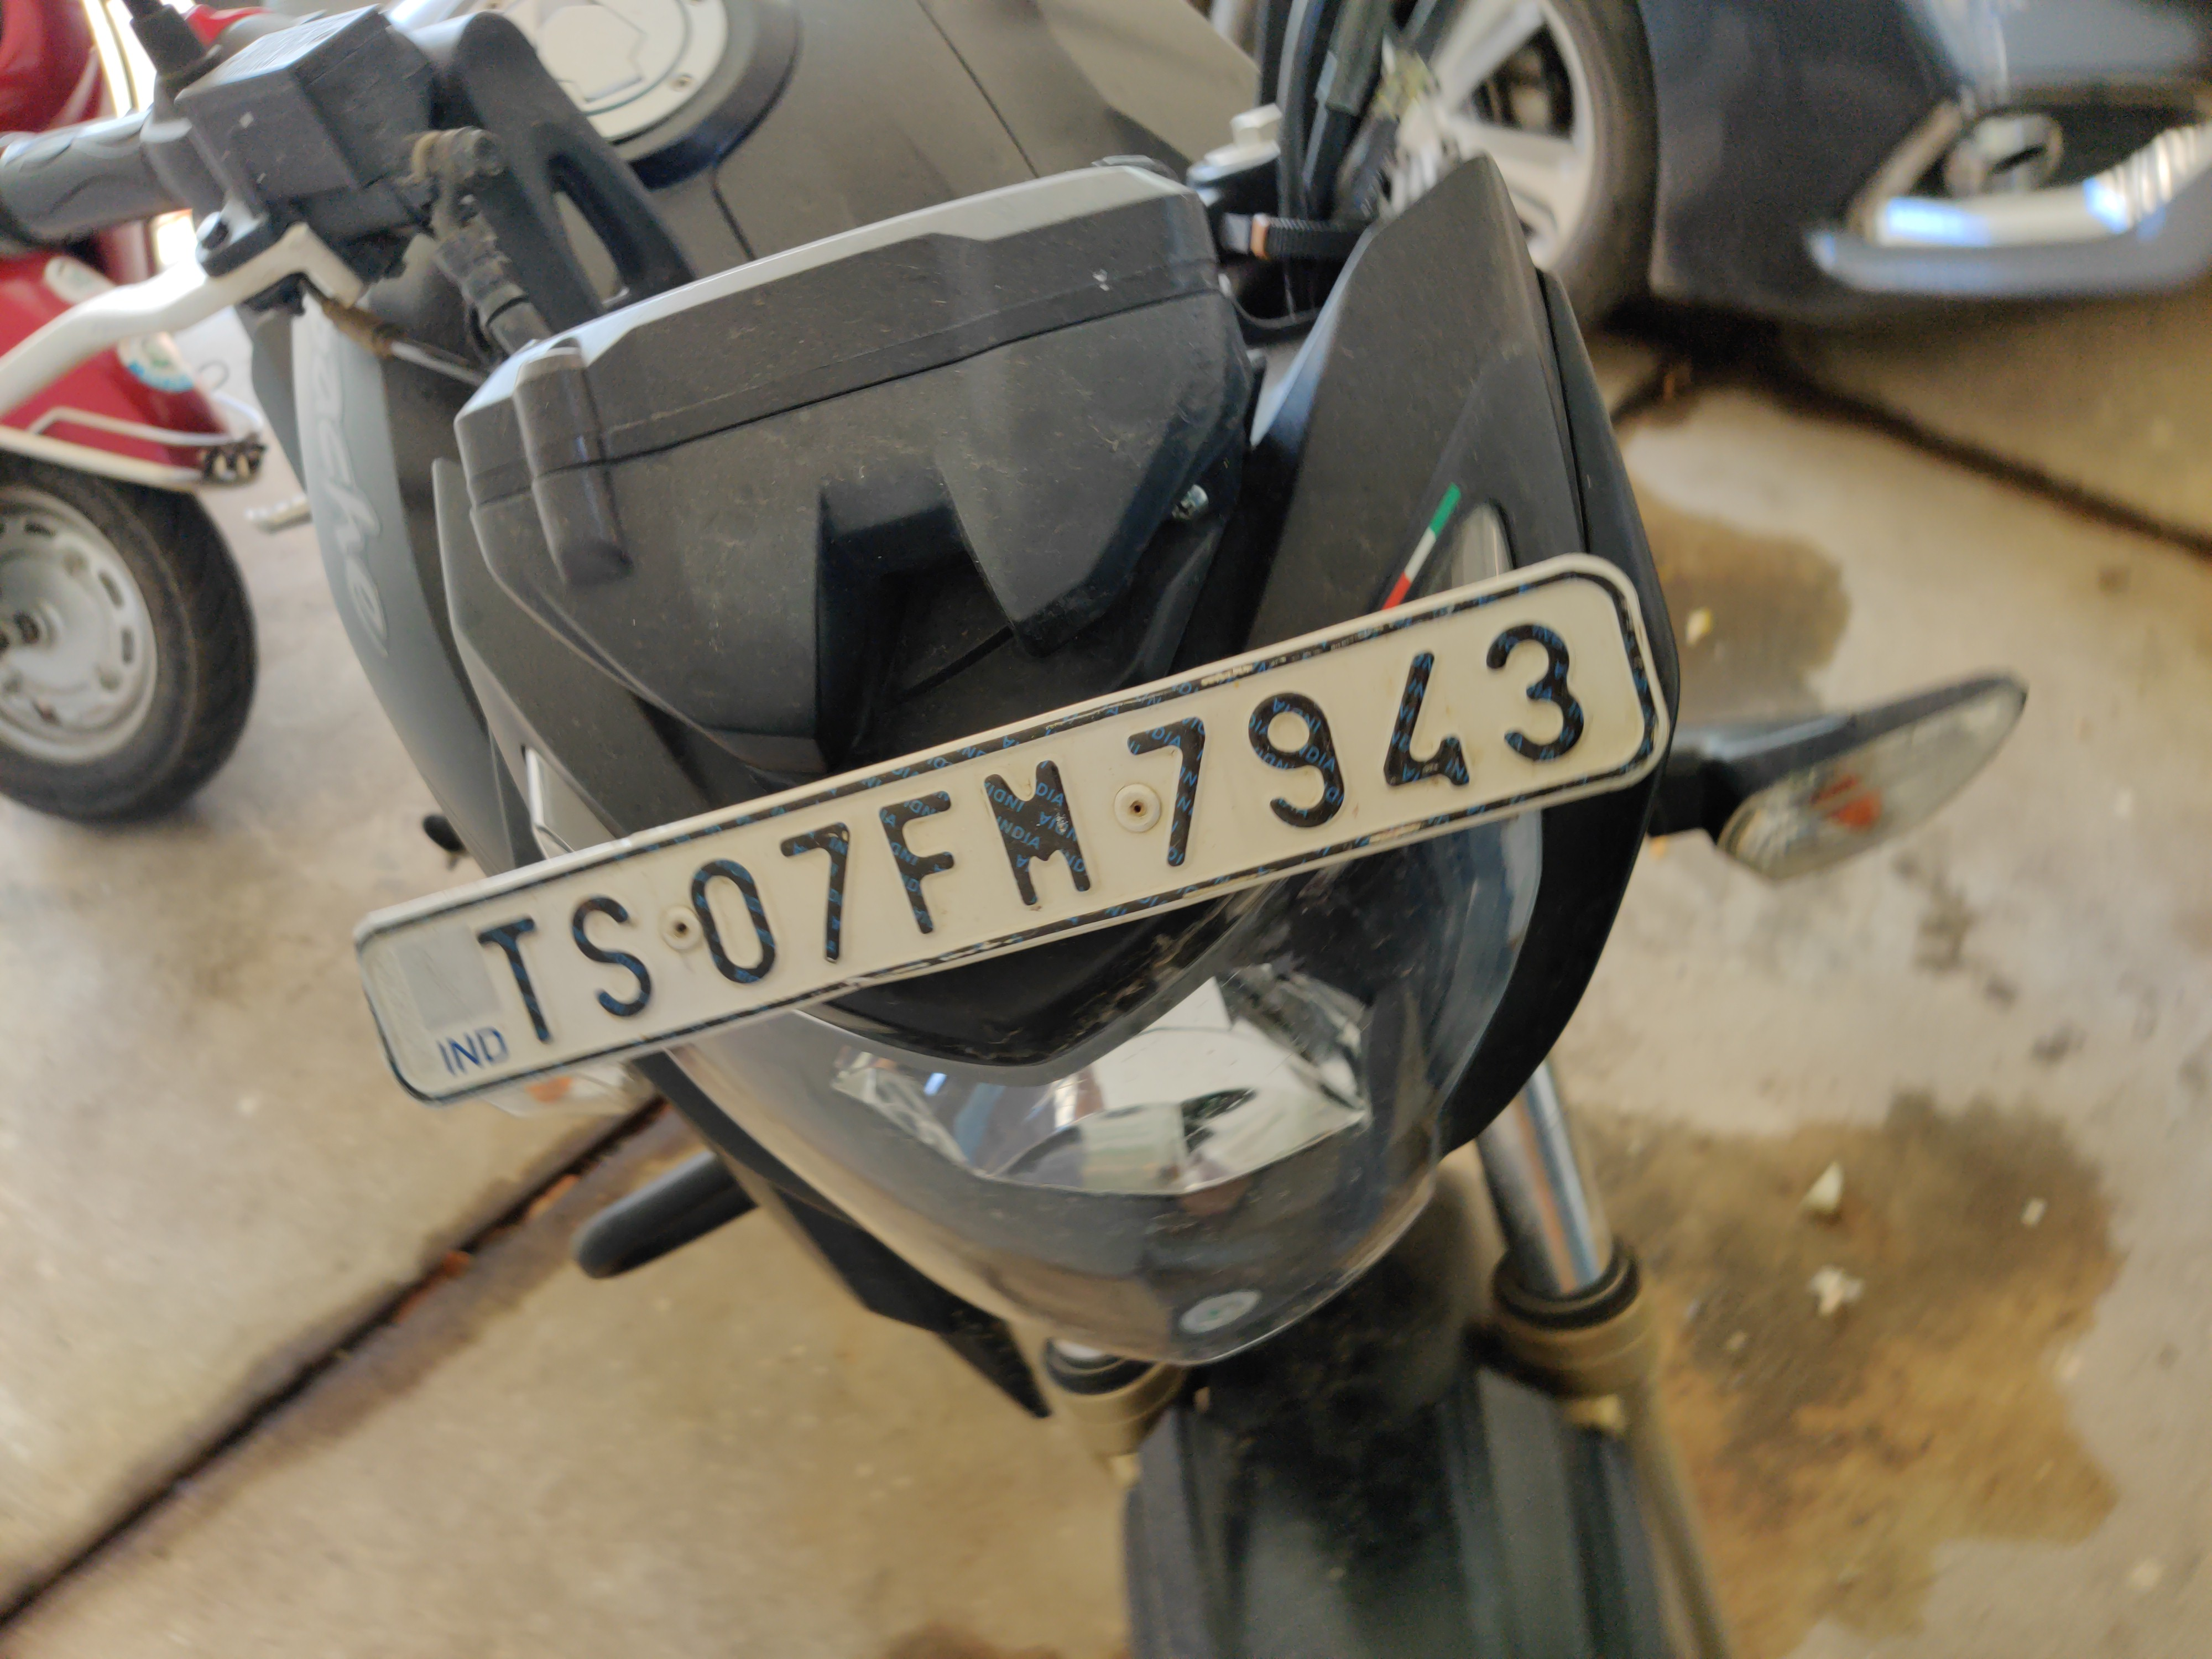plate: (327, 532, 1714, 1126)
